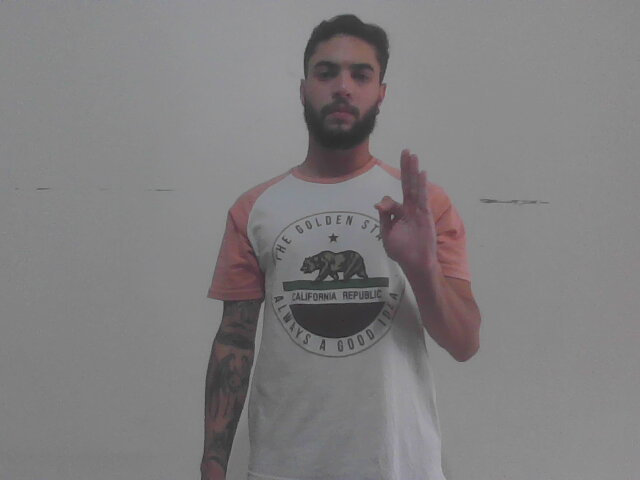f: (371, 144, 444, 270)
